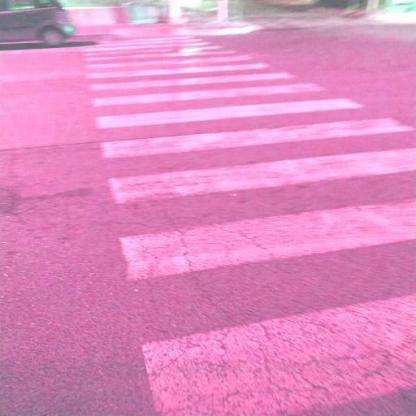crosswalk: (89, 82, 374, 133)
